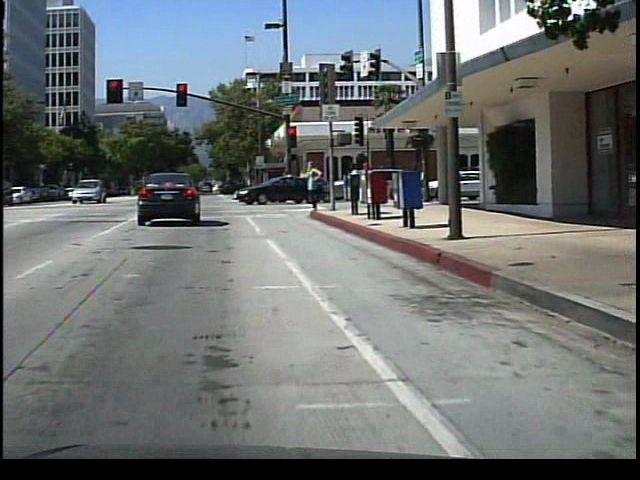person: (303, 153, 328, 215), (362, 155, 381, 207), (349, 156, 368, 206)
